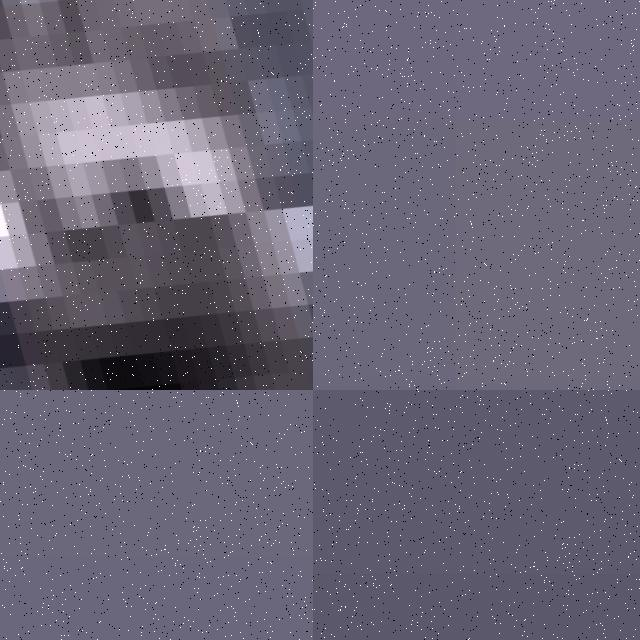drone: (0, 0, 313, 390)
